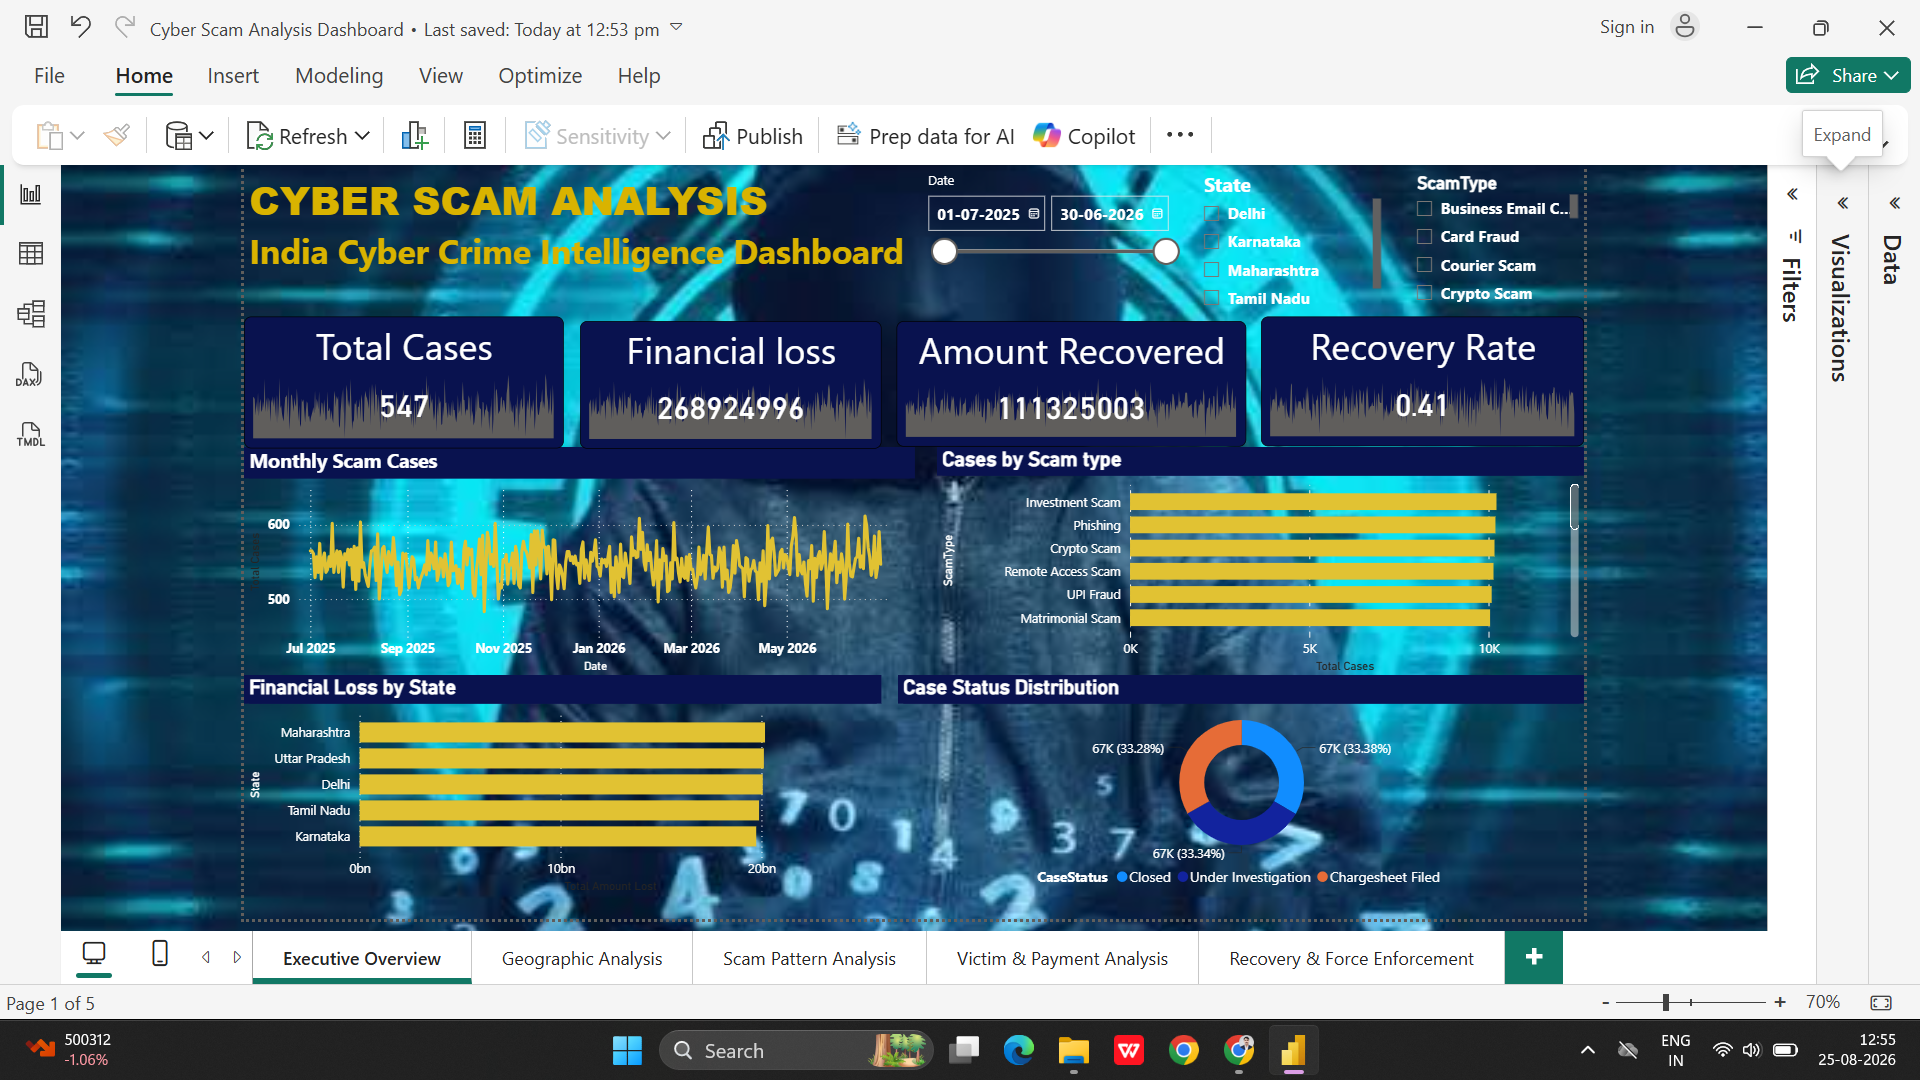

The dashboard page shown, as its layout file describes it:
{"tool":"powerbi","page":{"name":"Executive Overview","canvas":[1280,720],"ordinal":0},"visuals":[{"type":"lineChart","title":"Monthly Scam Cases","fields":{"Y":["Sheet.Total Cases"],"Category":["Sheet.Date"]},"box":[0,268.8,640.6,219.3],"z":0},{"type":"barChart","title":"Cases by Scam type","fields":{"Category":["Sheet.ScamType"],"Y":["Sheet.Total Cases"]},"box":[661.6,268.8,617.8,219.3],"z":1000},{"type":"barChart","title":"Financial Loss by State","fields":{"Category":["Sheet.State"],"Y":["Sheet.Total Amount Lost"]},"box":[0,487.6,608.7,212],"z":2000},{"type":"donutChart","title":"Case Status Distribution","fields":{"Category":["Sheet.CaseStatus"],"Y":["Sheet.Total Cases"]},"box":[623.9,487.6,655.7,212],"z":3000},{"type":"slicer","fields":{"Values":["Sheet.State"]},"box":[903.8,0,186.9,144.9],"z":4000},{"type":"slicer","fields":{"Values":["Sheet.ScamType"]},"box":[1107.8,1.9,171.6,143],"z":5000},{"type":"slicer","fields":{"Values":["Sheet.Date"]},"box":[640.6,1.9,261.2,129.7],"z":6000},{"type":"kpi","title":"Total Cases","fields":{"Indicator":["Sheet.Total Cases"],"TrendLine":["Sheet.Date"]},"box":[0,144.9,305.1,125.8],"z":7000},{"type":"kpi","title":"Financial loss","fields":{"Indicator":["Sheet.Total Amount Lost"],"TrendLine":["Sheet.Date"]},"box":[320.3,148.7,287.9,122],"z":8000},{"type":"kpi","title":"Amount Recovered","fields":{"Indicator":["Sheet.Total Amount Recovered"],"TrendLine":["Sheet.Date"]},"box":[623.5,148.7,333.7,120.1],"z":9000},{"type":"kpi","title":"Recovery Rate","fields":{"Indicator":["Sheet.Recovery rate %"],"TrendLine":["Sheet.Date"]},"box":[970.5,144.9,308.9,123.9],"z":10000},{"type":"textbox","box":[0,1.9,661.6,112.5],"z":11000}]}

Visuals, with their boxes on the page's 1280x720 design canvas (x1, y1, x2, y2). These are canvas units, not pixel positions in the 1920x1080 screenshot, which may show the page scaled, cropped or inside an application window:
"Monthly Scam Cases" lineChart: (left=0, top=269, right=641, bottom=488)
"Cases by Scam type" barChart: (left=662, top=269, right=1279, bottom=488)
"Financial Loss by State" barChart: (left=0, top=488, right=609, bottom=700)
"Case Status Distribution" donutChart: (left=624, top=488, right=1280, bottom=700)
slicer - Sheet.State: (left=904, top=0, right=1091, bottom=145)
slicer - Sheet.ScamType: (left=1108, top=2, right=1279, bottom=145)
slicer - Sheet.Date: (left=641, top=2, right=902, bottom=132)
"Total Cases" kpi: (left=0, top=145, right=305, bottom=271)
"Financial loss" kpi: (left=320, top=149, right=608, bottom=271)
"Amount Recovered" kpi: (left=624, top=149, right=957, bottom=269)
"Recovery Rate" kpi: (left=970, top=145, right=1279, bottom=269)
textbox: (left=0, top=2, right=662, bottom=114)
